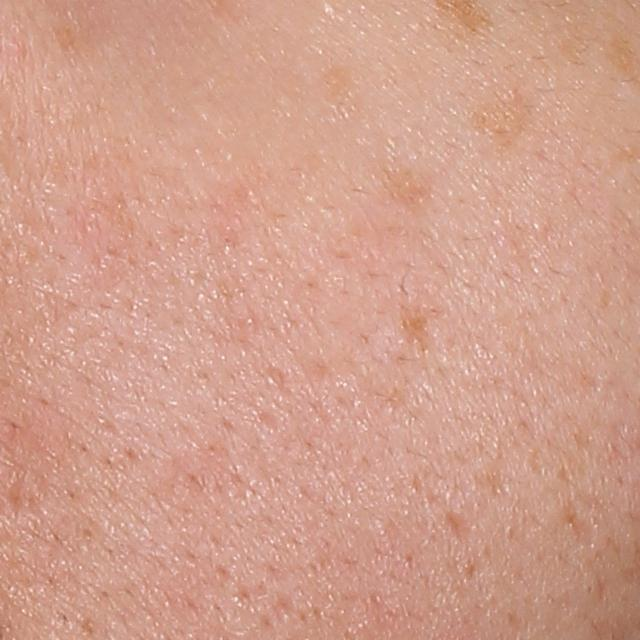atrophic_scar: (557, 501, 605, 556), (444, 509, 482, 546)
melasma: (474, 87, 528, 153), (378, 163, 435, 208)
